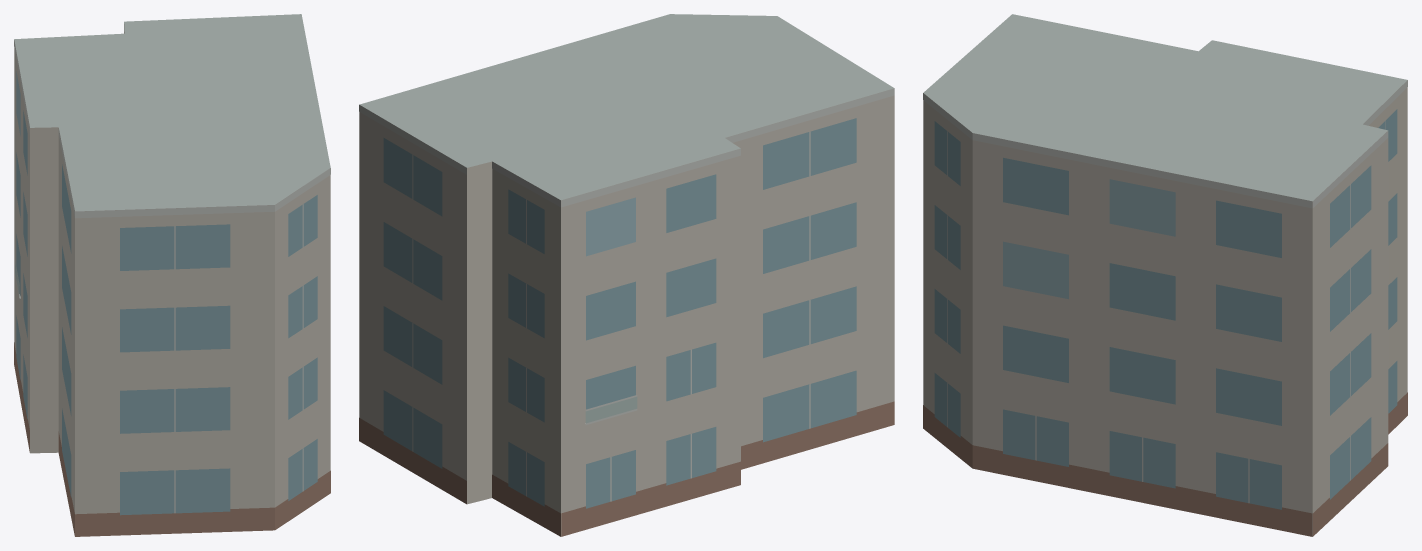
Rendered from survey-upis-32633025.glb.
3 views of the same model, side by side, from view 1: azimuth 30°, elevation 25°; view 2: azimuth 150°, elevation 25°; view 3: azimuth 270°, elevation 25° (orthographic). The views are drawn at different scales.
Visible parts, largest first — view 1: survey-upis-32633025.tmp; view 2: survey-upis-32633025.tmp; view 3: survey-upis-32633025.tmp.
Part boxes in pixels (x1,y1,x2,y2): survey-upis-32633025.tmp: (14, 14, 330, 536); survey-upis-32633025.tmp: (359, 14, 894, 536); survey-upis-32633025.tmp: (923, 14, 1407, 536).
Size of the model in its own units: 13.71 by 11.45 by 15.
